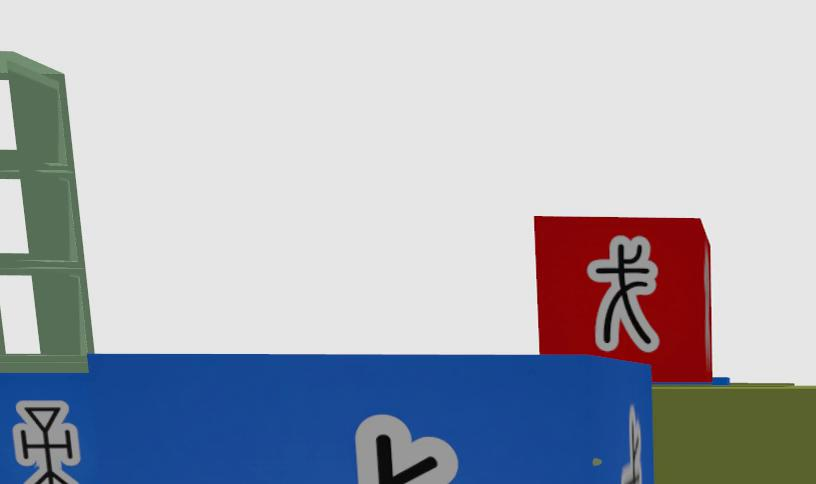KFS_FAKE: (535, 218, 712, 381), (587, 236, 658, 352)
KFS_REAL: (89, 354, 667, 484), (0, 374, 105, 484), (355, 415, 456, 484), (13, 400, 82, 484), (621, 406, 642, 484)
